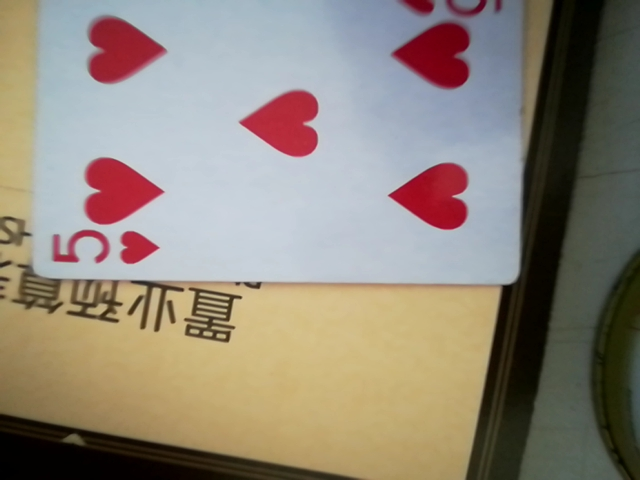hx 5: (35, 0, 532, 287)
